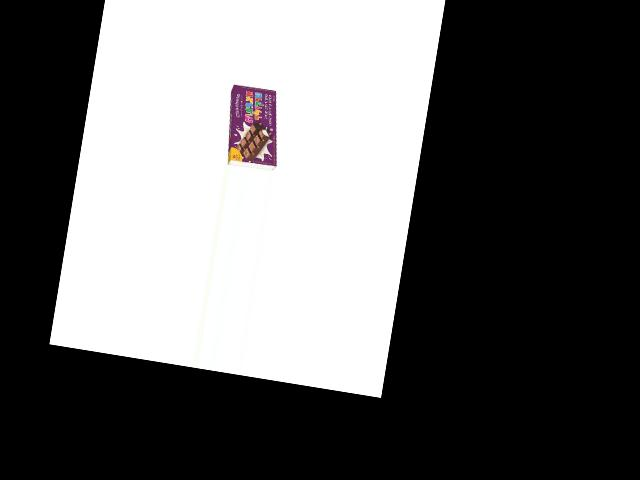chocolate: (219, 78, 285, 172)
